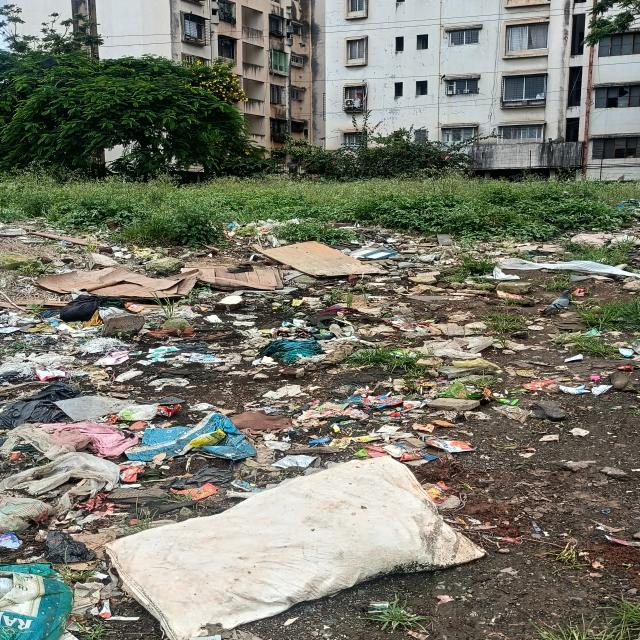garbage: (6, 228, 356, 640), (373, 225, 640, 440)
